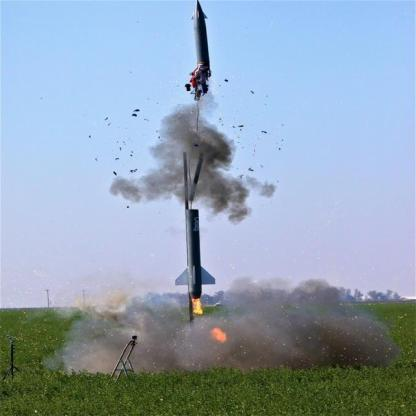MIL_TBM: (184, 205, 203, 304), (190, 3, 212, 76)
